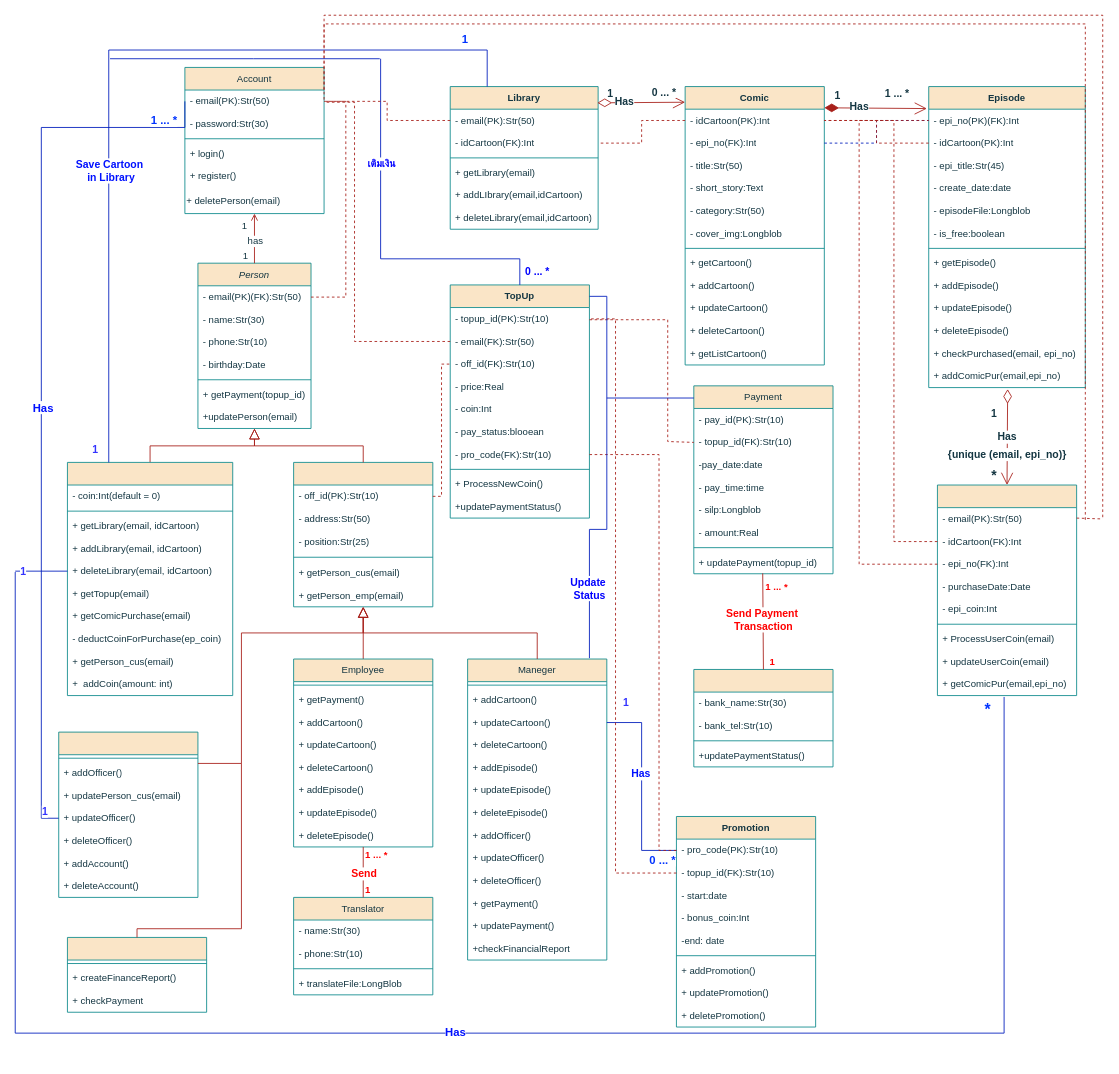
Some shapes in this 1119 by 1074 pixel diagram are drawn without their labels. The box of each missing label's shape, as (x1, y1, x2, y2) in pixels:
Admin: (58, 731, 198, 897)
BankOfficer: (693, 669, 833, 767)
ComicPurchase: (937, 484, 1077, 696)
Customer: (67, 462, 233, 696)
Finance Emp: (67, 937, 207, 1012)
Officer: (293, 462, 433, 607)
